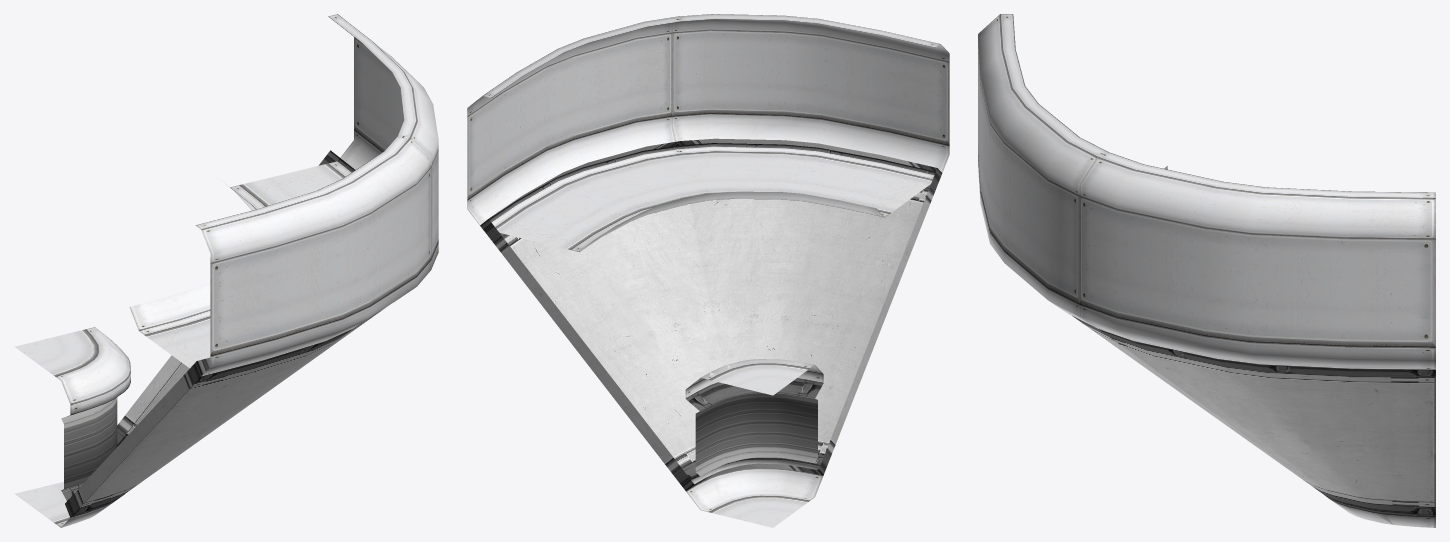
File: Dock_CORNERTHING.FBX
3 renders of one model, left to right at view 1: azimuth 30°, elevation 25°; view 2: azimuth 150°, elevation 25°; view 3: azimuth 270°, elevation 25°, orthographic. The views are drawn at different scales.
Visible parts, largest first — view 1: Dock_CORNERTHING; view 2: Dock_CORNERTHING; view 3: Dock_CORNERTHING.
Boxes of the visible parts, box(x1,y1,x2,y2) form: Dock_CORNERTHING: box(14, 14, 438, 527); Dock_CORNERTHING: box(467, 14, 949, 527); Dock_CORNERTHING: box(978, 14, 1435, 527).
Size of the model in its own units: 6.3 by 7.11 by 6.3.
